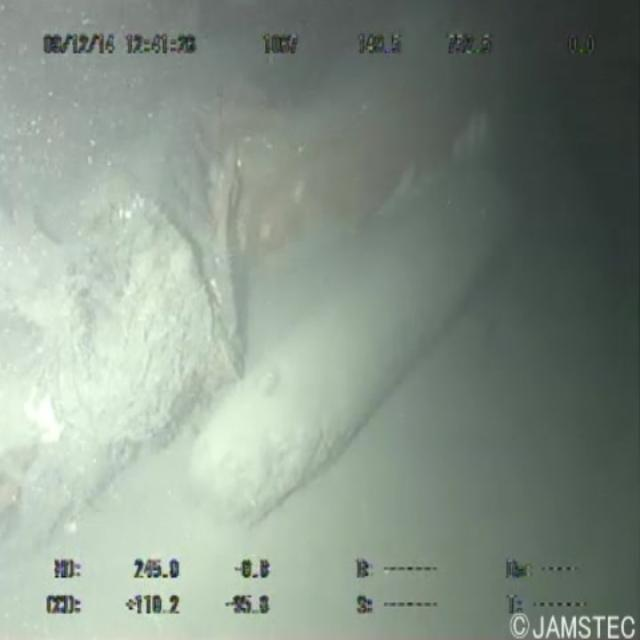Wood: (0, 90, 629, 528)
